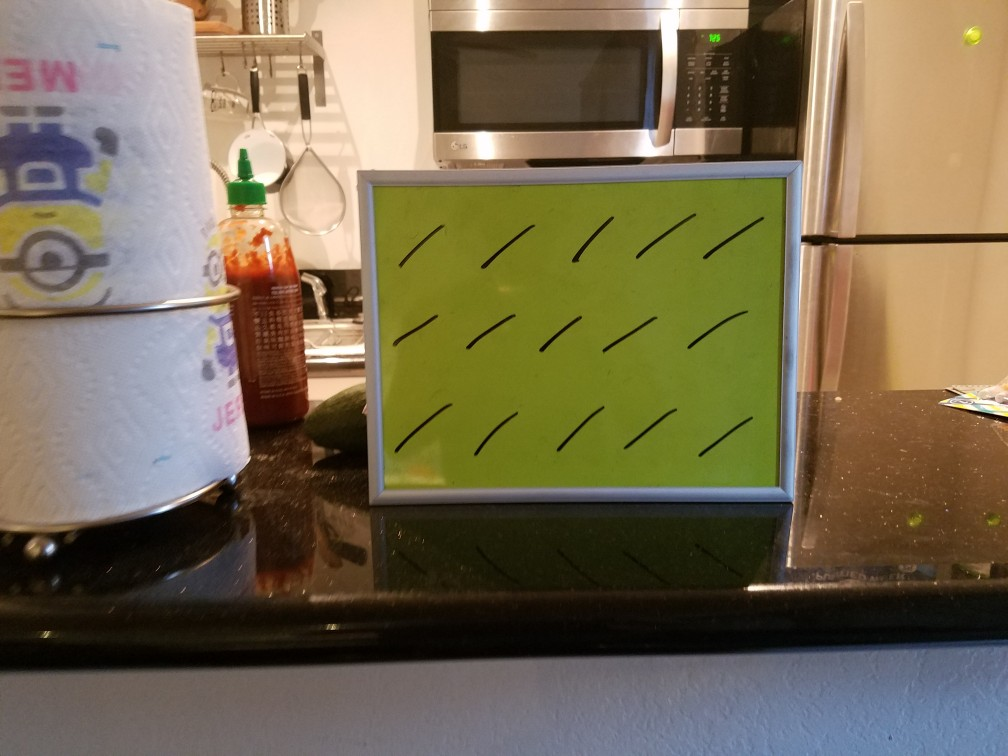/: (691, 400, 762, 474), (548, 393, 616, 466), (683, 297, 759, 358), (466, 399, 527, 470), (394, 391, 452, 460), (618, 399, 681, 457), (528, 304, 587, 363), (597, 304, 654, 365), (703, 210, 762, 268), (630, 212, 691, 268), (559, 215, 615, 269), (474, 223, 535, 269), (463, 304, 513, 359), (395, 221, 446, 269), (388, 307, 429, 356)
